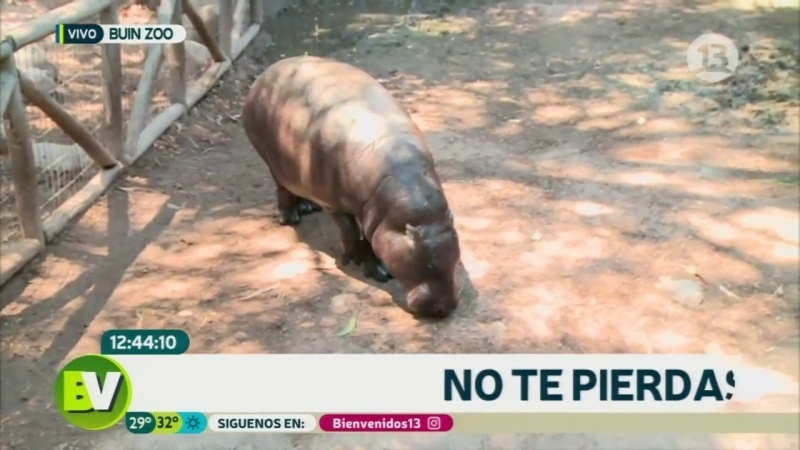hipopotamo: (226, 44, 503, 334)
